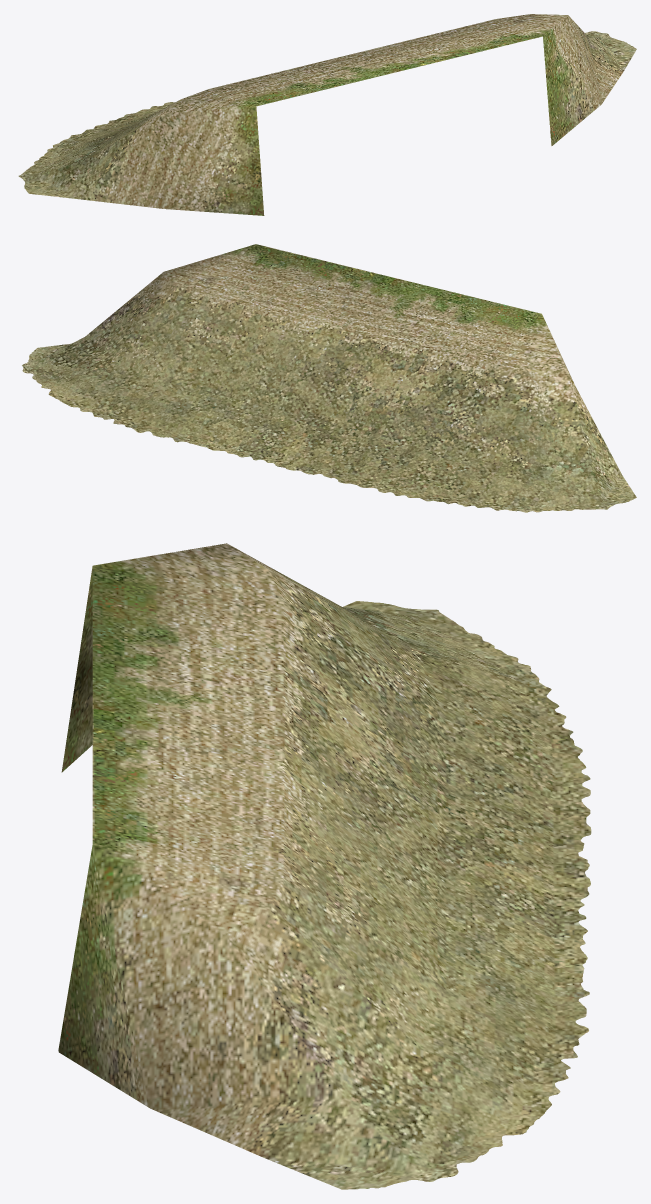
Rendered from celt_wall_turf_med.dae.
The picture shows the model from 3 angles, top to bottom: view 1: azimuth 30°, elevation 25°; view 2: azimuth 150°, elevation 25°; view 3: azimuth 270°, elevation 25°; orthographic projection. The views are drawn at different scales.
Visible parts, largest first — view 1: wall_turf04-Pivot; view 2: wall_turf04-Pivot; view 3: wall_turf04-Pivot.
Part boxes in pixels (x1,y1,x2,y2): wall_turf04-Pivot: (18,14,636,215); wall_turf04-Pivot: (22,244,636,512); wall_turf04-Pivot: (58,543,591,1189).
Size of the model in its own units: 42.21 by 16.2 by 6.93.
